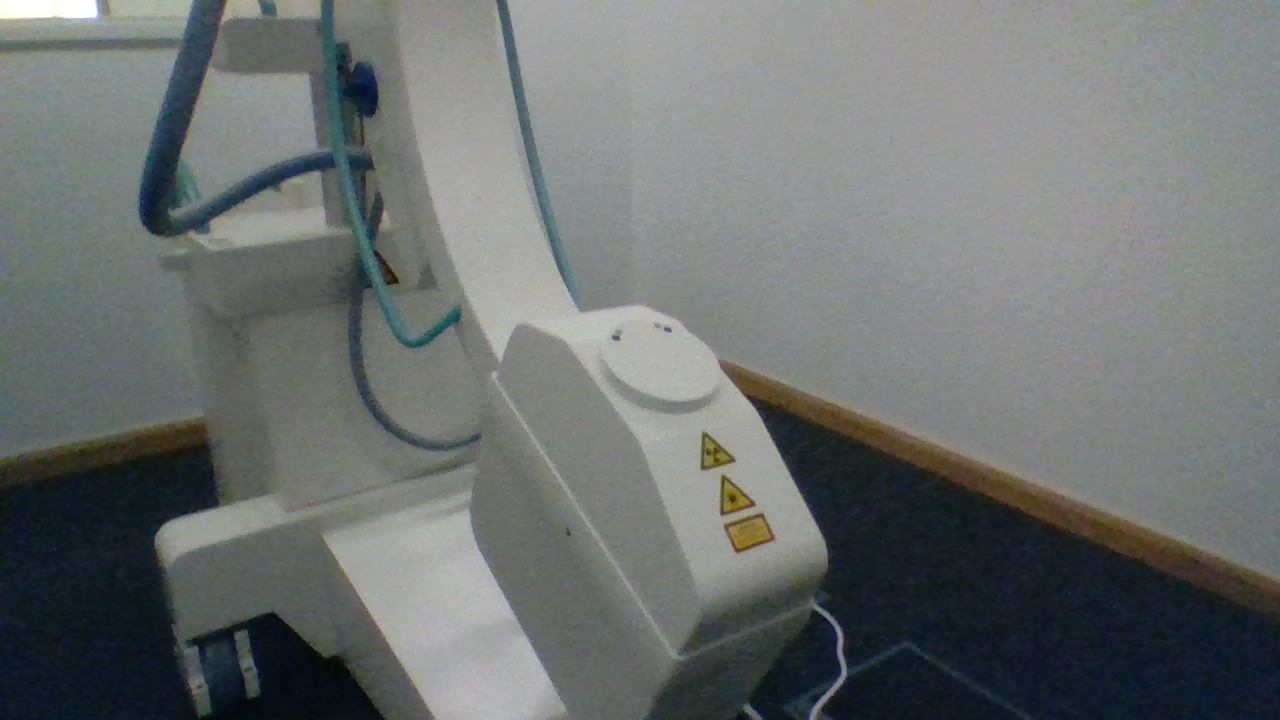carmBACK: (250, 174, 310, 208)
carmDOWN: (491, 301, 827, 657)
carmLOCK: (341, 59, 381, 119)
